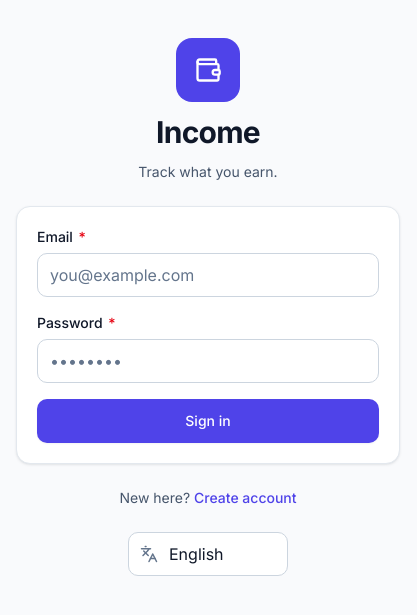
Test: SignInPage › validates the email and password before submitting
In the field labelled "Email *": (208, 275) x1=37 y1=253 x2=379 y2=297, type "not-an-email"
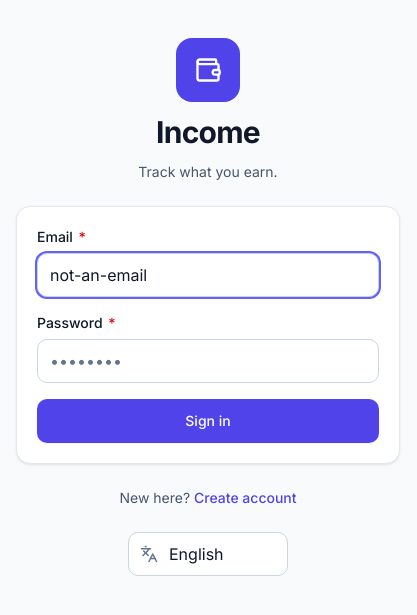
In the password field labelled "Password *": (208, 361) x1=37 y1=339 x2=379 y2=383, type "short"
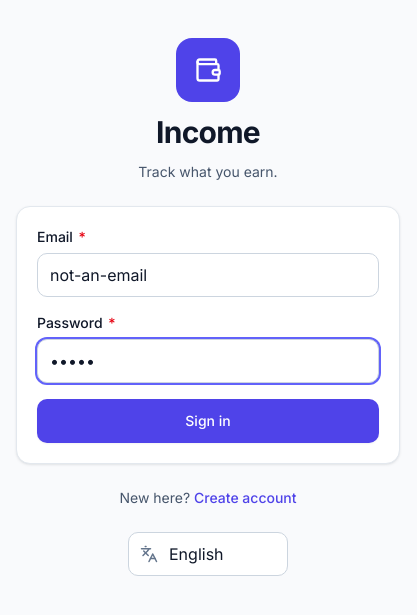
Click the button "Sign in": (208, 421) x1=37 y1=399 x2=379 y2=443
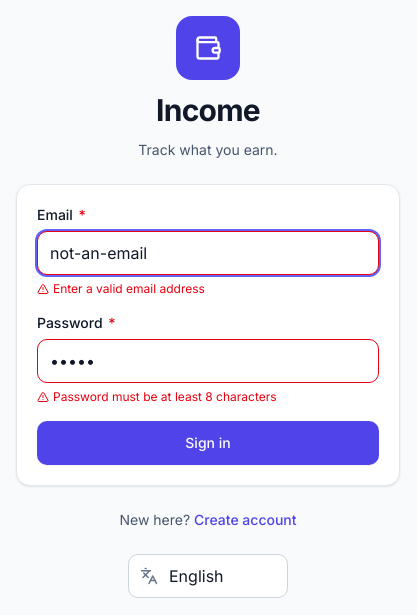
Check: the text "Enter a valid email address" is shown, box x1=37 y1=281 x2=205 y2=296
Check: the text "Password must be at least 8 characters" is shown, box x1=37 y1=389 x2=277 y2=404
